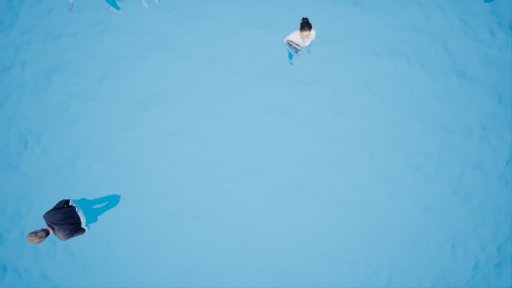person: (27, 189, 129, 246), (276, 8, 330, 69)
